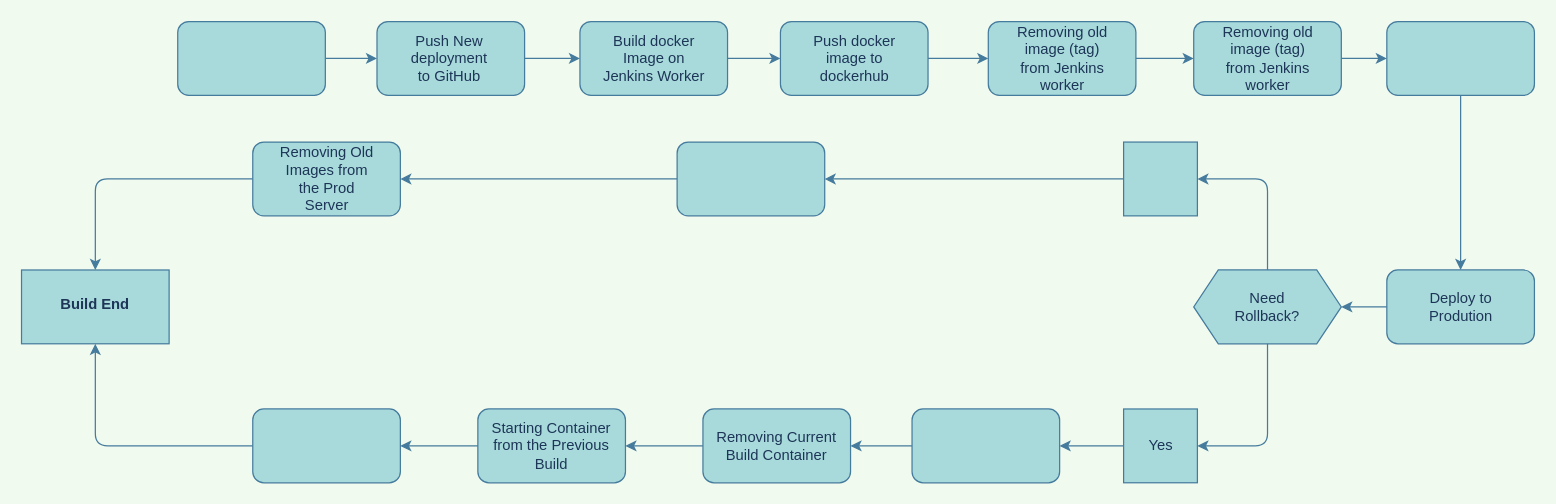
The diagram is 1556 pixels wide and 504 high, and some of its shapes have lost their labels. Here are the shapes that lost their labels. From the top down, the box of each, then its label:
(177, 20, 325, 95): Start (Checkout SCM)
(1386, 20, 1534, 95): Pull New Image To Production Server
(676, 141, 825, 216): Removing Old Containers from the Prodution Server
(1122, 141, 1197, 216): No
(252, 408, 400, 483): Removing Current Build Image
(911, 408, 1060, 483): Stopping Current Build Container
